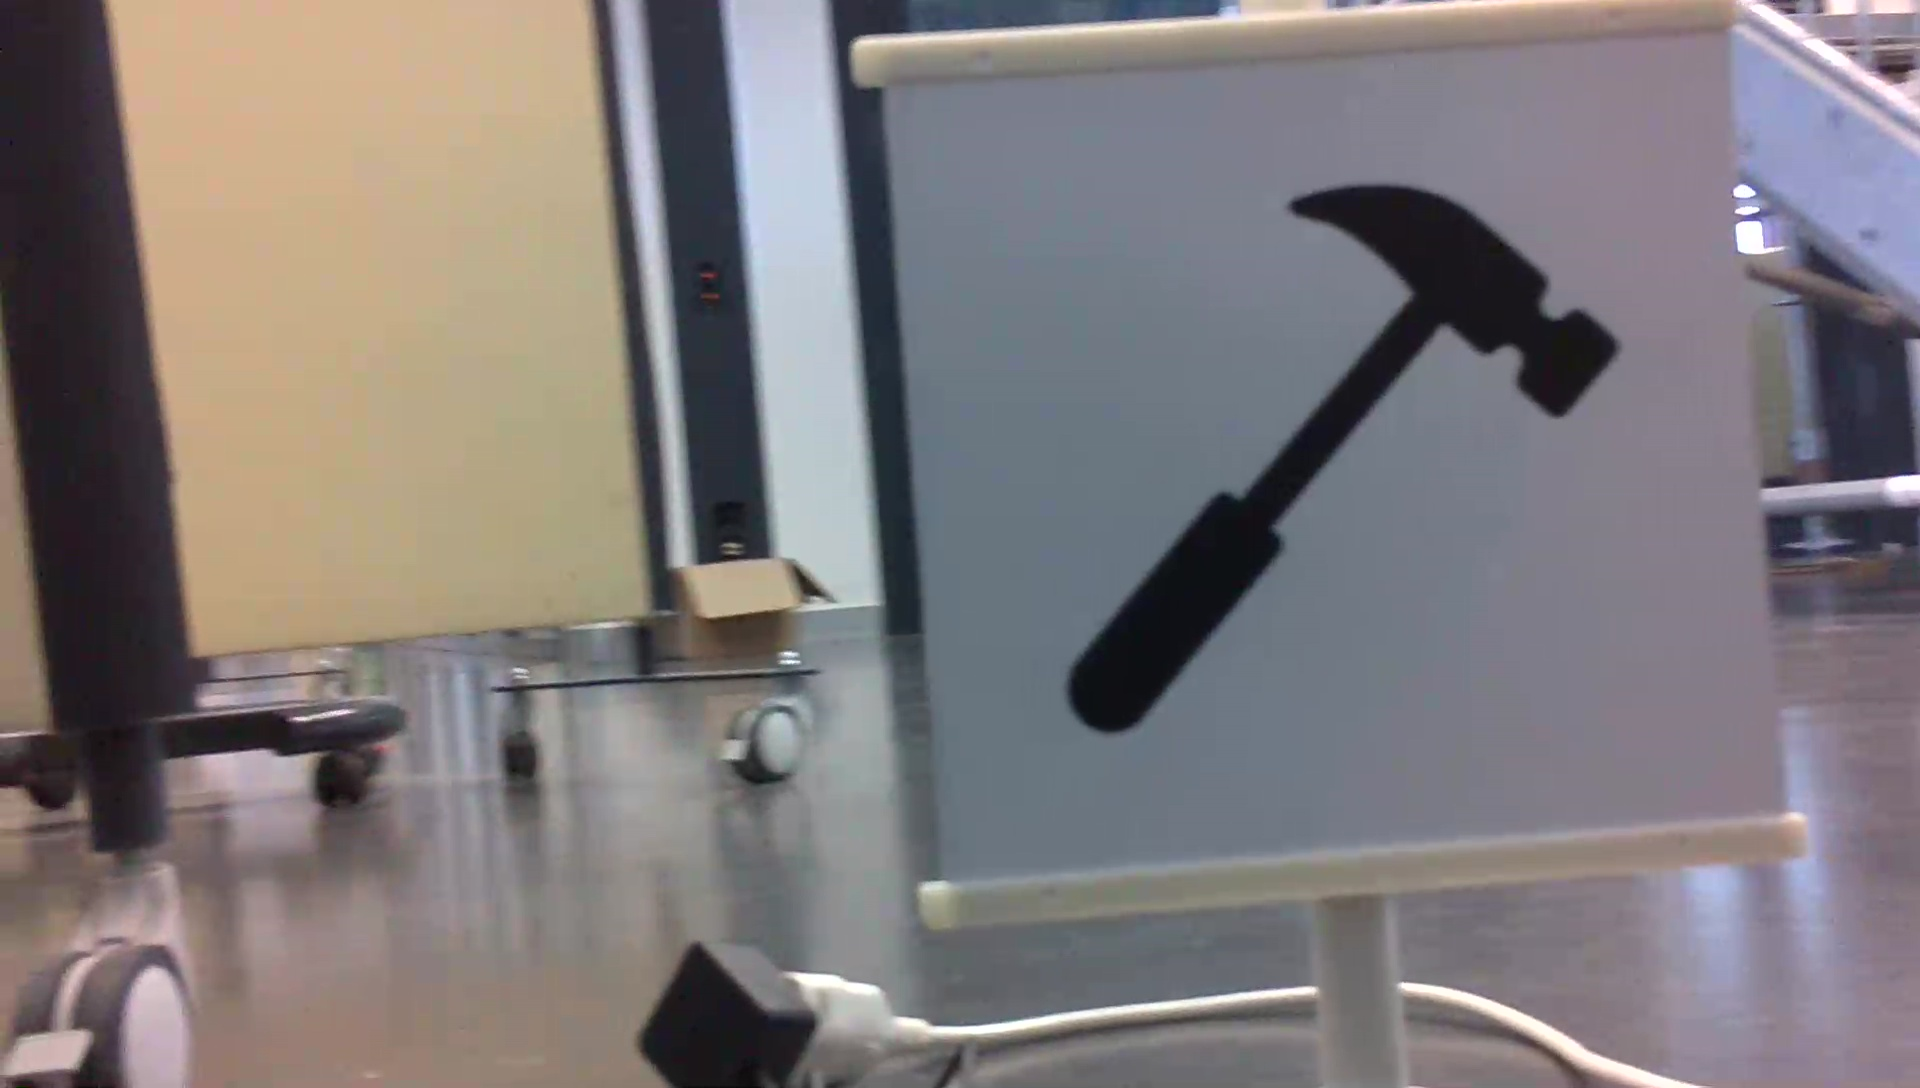hammer: (1058, 178, 1630, 740)
